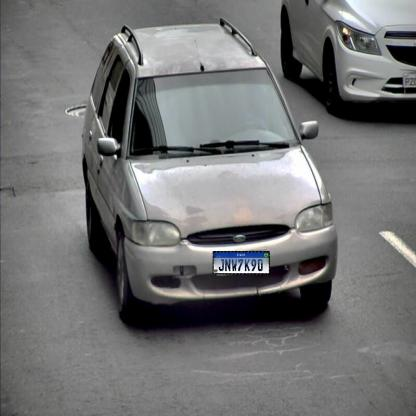PlacaM: (213, 251, 270, 275)
